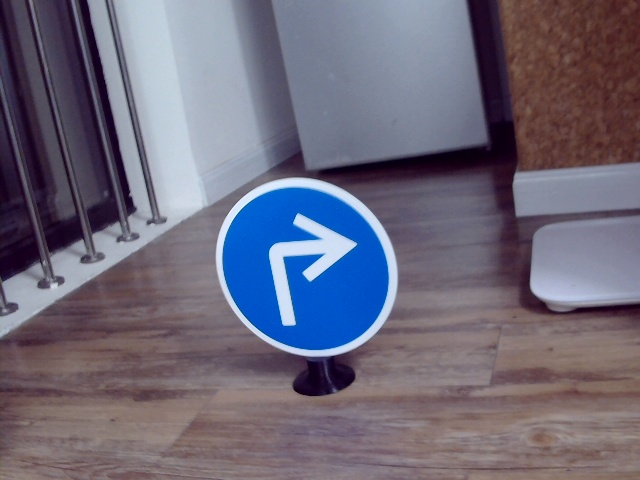turn_right: (258, 215, 351, 325)
